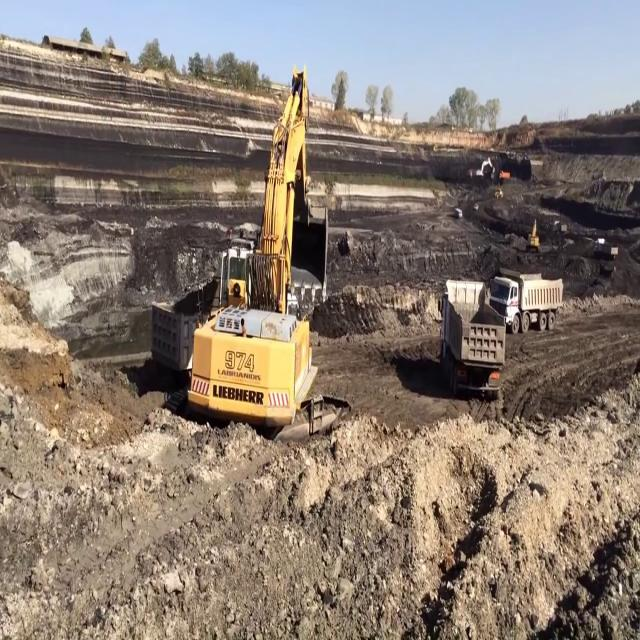excavator: (177, 63, 335, 431)
